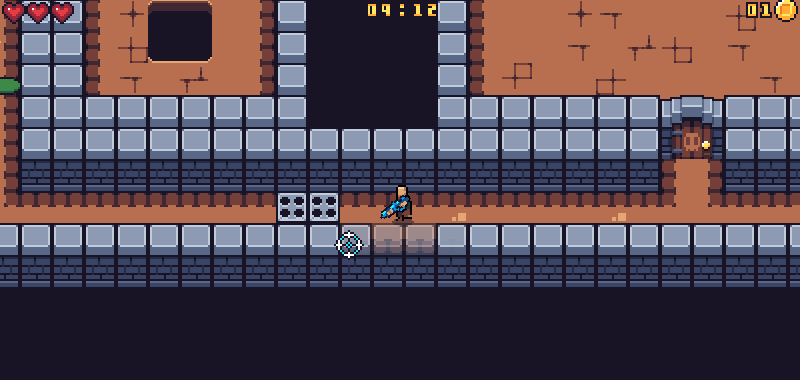door: (657, 91, 727, 162)
enemy_slug: (1, 78, 24, 99)
trap_off: (276, 191, 339, 223)
